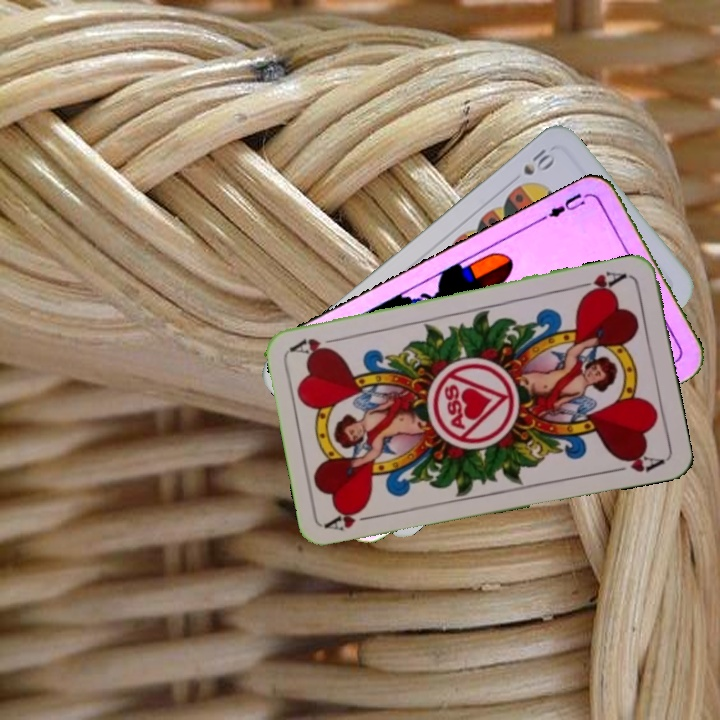EU: (539, 188, 595, 222)
HA: (323, 502, 382, 534), (573, 267, 629, 299)
S10: (519, 144, 558, 178)
